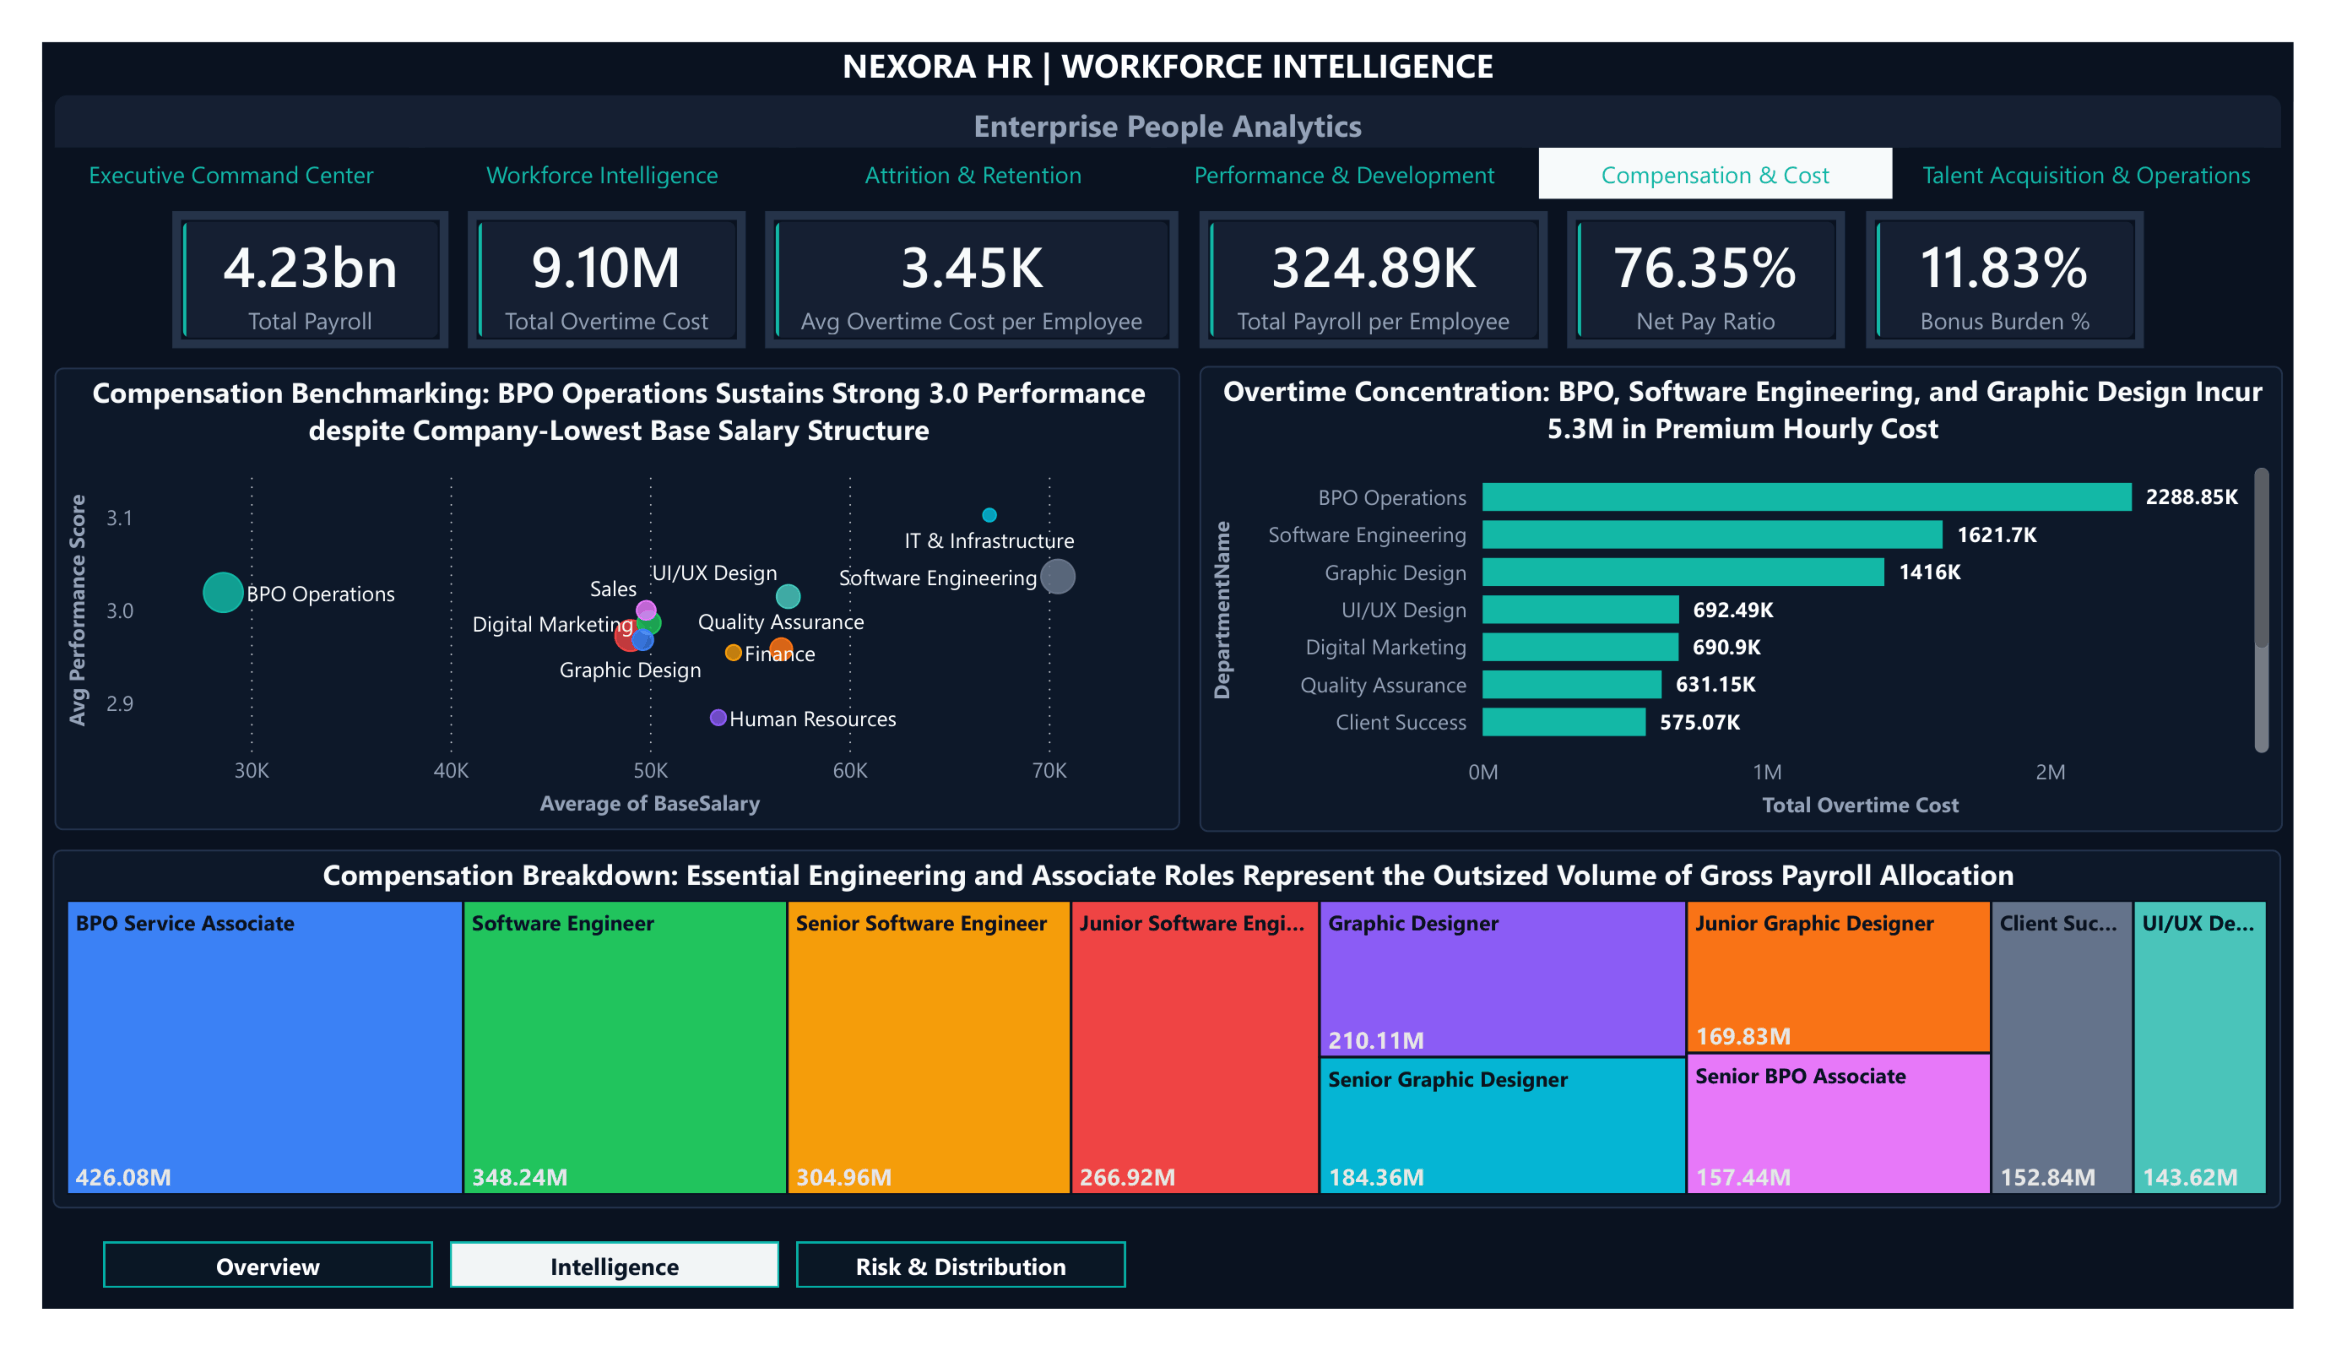

The dashboard page shown, as its layout file describes it:
{"tool":"powerbi","page":{"name":"Compensation & Cost","canvas":[1280,720],"ordinal":4},"visuals":[{"type":"shape","title":"NEXORA HR | WORKFORCE INTELLIGENCE","box":[7.1,0,1265.7,60],"z":0},{"type":"pageNavigator","box":[7.1,59.5,1255.7,29.8],"z":1000},{"type":"cardVisual","fields":{"Data":["_Measures.Total Payroll"]},"box":[73.7,96.4,157.3,78],"z":2000},{"type":"cardVisual","fields":{"Data":["_Measures.Total Overtime Cost"]},"box":[242.4,96.4,157.3,78],"z":3000},{"type":"cardVisual","fields":{"Data":["_Measures.Avg Overtime Cost per Employee"]},"box":[411,96.4,235.3,78],"z":4000},{"type":"cardVisual","fields":{"Data":["_Measures.Payroll Cost per Employee"]},"box":[657.6,96.4,198.4,78],"z":5000},{"type":"cardVisual","fields":{"Data":["_Measures.Compensation Cost % of Payroll"]},"box":[867.4,96.4,157.3,78],"z":6000},{"type":"cardVisual","fields":{"Data":["_Measures.Bonus Burden %"]},"box":[1037.5,96.4,157.3,78],"z":7000},{"type":"lineClusteredColumnComboChart","title":"Compensation Scaling: Overall Corporate Capital Peak Approached 545.84M While Sustaining a Flat 87.0K Cap","fields":{"Category":["DimDate.Year"],"Y":["_Measures.Total Payroll"],"Y2":["_Measures.Payroll Cost per Employee"]},"box":[657.6,184.3,615.1,263.6],"z":8000},{"type":"pivotTable","title":"Software Engineering Leads Maximum Compensation with a Peak Basic Salary Outpace of Over 70.1K","fields":{"Rows":["DimDepartment.DepartmentName"],"Values":["Avg(FactPayroll.BasicSalary)","Avg(FactOvertime.OvertimeCost)","Avg(FactPayroll.Bonus)","Avg(FactPayroll.GrossSalary)","Avg(FactPayroll.NetSalary)"]},"box":[7.1,457.8,639.2,205.5],"z":9000},{"type":"donutChart","title":"Discretionary Bonuses (14.9%) and Overtime Adjustments Form Over 1.1B in Overhead","fields":{"Category":["Payroll Composition.Component"],"Y":["_Measures.Payroll Composition Value"]},"box":[656.9,458.5,615.4,224.6],"z":10000},{"type":"decompositionTreeVisual","title":"Active Core Headcount Consumes 3.51B as Terminated Structural Liabilities Sit Under 717M","fields":{"Analyze":["_Measures.Total Payroll"],"ExplainBy":["DimEmployee.EmploymentStatus","DimDepartment.DepartmentName","DimJob.JobTitle"]},"box":[7.1,184.3,639.2,263.6],"z":12000},{"type":"bookmarkNavigator","box":[35.4,681.5,581.5,26.2],"z":19000}]}

Visuals, with their boxes in screenshot pixels (x1, y1, x2, y2), scaled from the page's 1280x720 canvas onto the 2336x1351 screenshot:
"NEXORA HR | WORKFORCE INTELLIGENCE" shape: (13,0,2323,113)
pageNavigator: (13,112,2305,168)
cardVisual - _Measures.Total Payroll: (135,181,422,327)
cardVisual - _Measures.Total Overtime Cost: (442,181,729,327)
cardVisual - _Measures.Avg Overtime Cost per Employee: (750,181,1179,327)
cardVisual - _Measures.Payroll Cost per Employee: (1200,181,1562,327)
cardVisual - _Measures.Compensation Cost % of Payroll: (1583,181,1870,327)
cardVisual - _Measures.Bonus Burden %: (1893,181,2181,327)
"Compensation Scaling: Overall Corporate Capital Peak Approached 545.84M While Sustaining a Flat 87.0K Cap" lineClusteredColumnComboChart: (1200,346,2323,840)
"Software Engineering Leads Maximum Compensation with a Peak Basic Salary Outpace of Over 70.1K" pivotTable: (13,859,1179,1245)
"Discretionary Bonuses (14.9%) and Overtime Adjustments Form Over 1.1B in Overhead" donutChart: (1199,860,2322,1282)
"Active Core Headcount Consumes 3.51B as Terminated Structural Liabilities Sit Under 717M" decompositionTreeVisual: (13,346,1179,840)
bookmarkNavigator: (65,1279,1126,1328)
